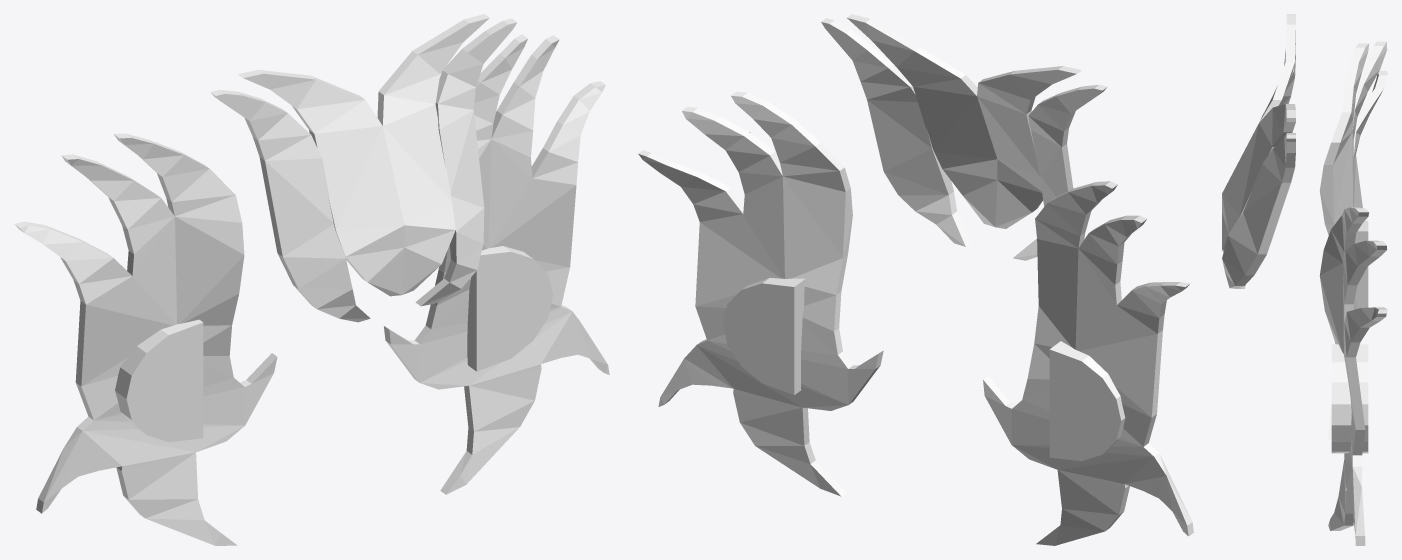
The model's file is firehead.fbx.
The picture shows the model from 3 angles, left to right: view 1: azimuth 30°, elevation 25°; view 2: azimuth 150°, elevation 25°; view 3: azimuth 270°, elevation 25°; orthographic projection. The views are drawn at different scales.
Visible parts, largest first — view 1: Plane; view 2: Plane; view 3: Plane.
Boxes of the visible parts, <box> form: Plane: <box>14,14,609,545</box>; Plane: <box>638,14,1193,545</box>; Plane: <box>1222,14,1387,545</box>.
Bounding box in the file's own units: 49.61 × 39.63 × 14.34.
